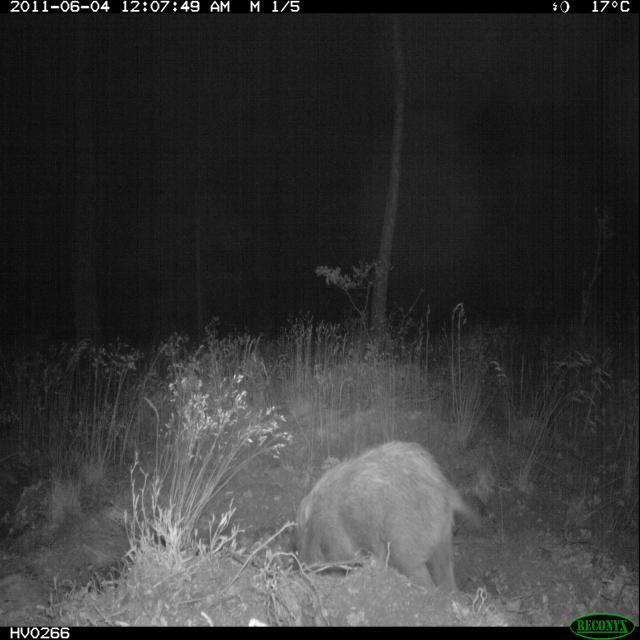boar: (264, 433, 458, 578)
